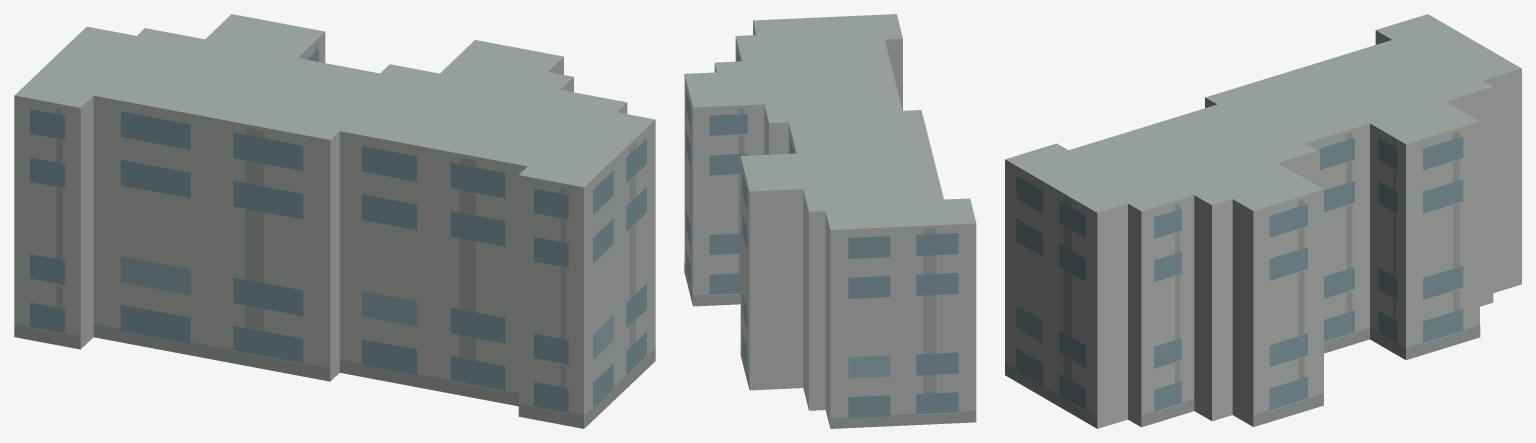
Rendered from residential-3a661833-c33d-4059-967b-fc49c4692da6.glb.
3 views of the same model, side by side, from view 1: azimuth 30°, elevation 25°; view 2: azimuth 150°, elevation 25°; view 3: azimuth 270°, elevation 25° (orthographic). The views are drawn at different scales.
Parts seen in each view (by area): view 1: residential-3a661833-c33d-4059-967b-fc49c4692da6.tmp; view 2: residential-3a661833-c33d-4059-967b-fc49c4692da6.tmp; view 3: residential-3a661833-c33d-4059-967b-fc49c4692da6.tmp.
Boxes of the visible parts, left/top/right/bottom form: residential-3a661833-c33d-4059-967b-fc49c4692da6.tmp: left=14, top=14, right=655, bottom=428; residential-3a661833-c33d-4059-967b-fc49c4692da6.tmp: left=684, top=14, right=976, bottom=428; residential-3a661833-c33d-4059-967b-fc49c4692da6.tmp: left=1005, top=14, right=1521, bottom=428.
Bounding box in the file's own units: 30.14 × 15.25 × 33.08.
